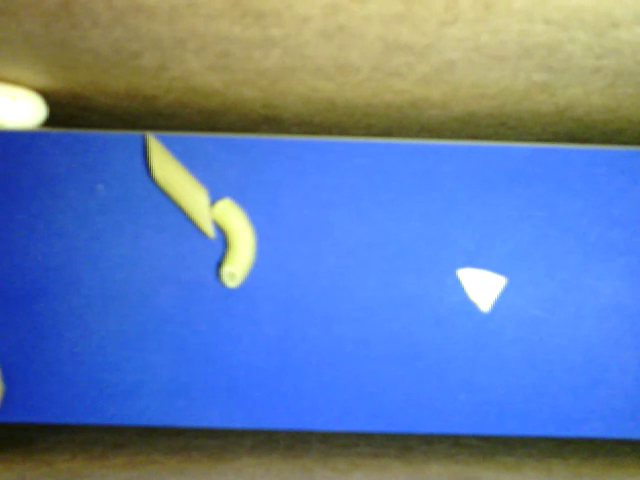elbow: (209, 196, 256, 288)
penne: (143, 131, 215, 238)
